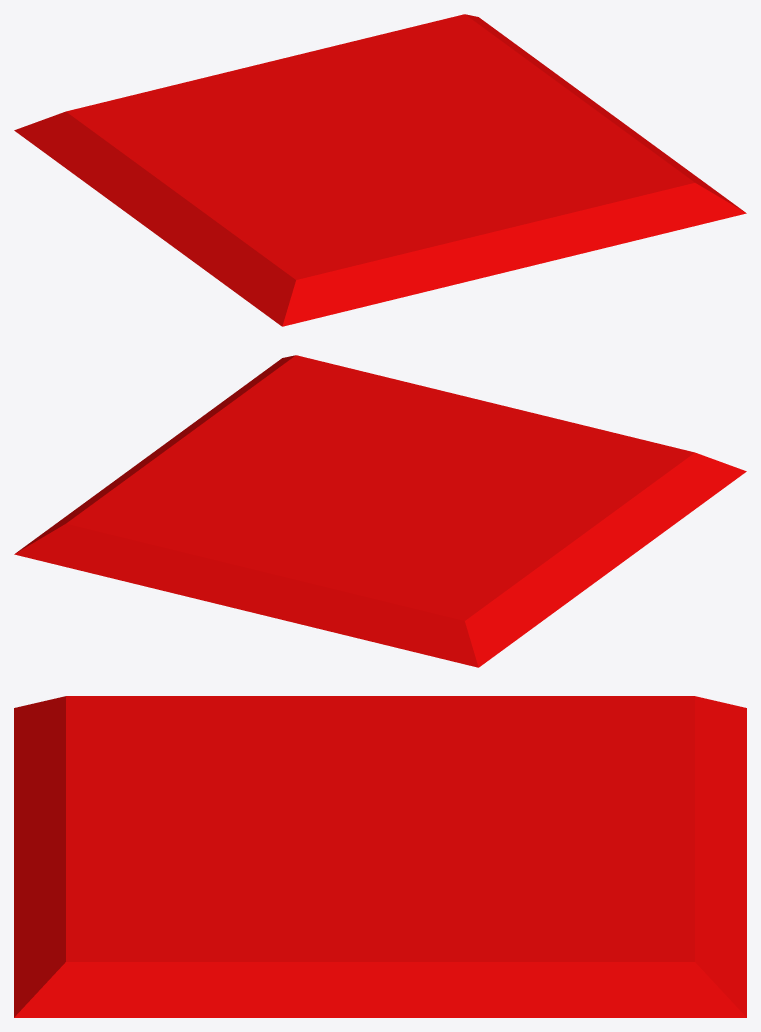
The model's file is finished platform.fbx.
3 renders of one model, top to bottom at view 1: azimuth 30°, elevation 25°; view 2: azimuth 150°, elevation 25°; view 3: azimuth 270°, elevation 25°, orthographic. The views are drawn at different scales.
Parts seen in each view (by area): view 1: pCube1; view 2: pCube1; view 3: pCube1.
Boxes of the visible parts, x1,y1,x2,y2 form: pCube1: (14,14,746,326); pCube1: (14,355,746,667); pCube1: (14,696,746,1017).
Bounding box in the file's own units: 1 × 0.051 × 1.
